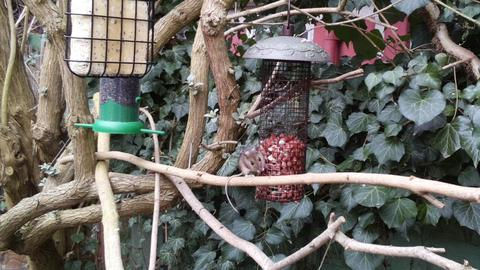mouse: (224, 144, 265, 214)
